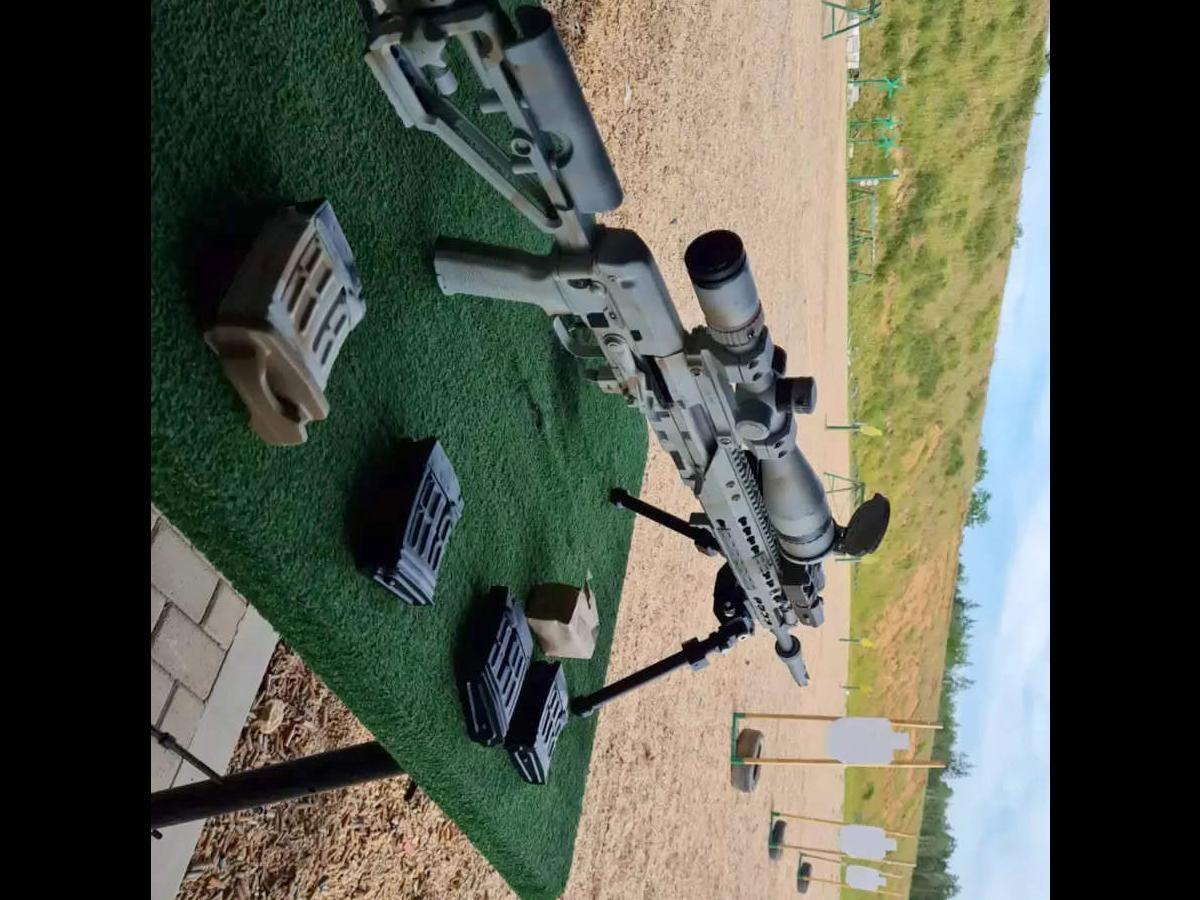gun: (272, 0, 886, 716)
